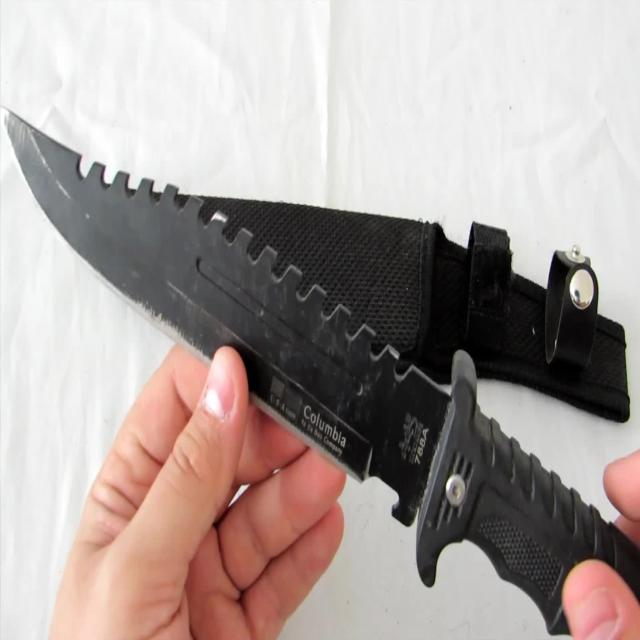knife: (1, 97, 588, 631)
